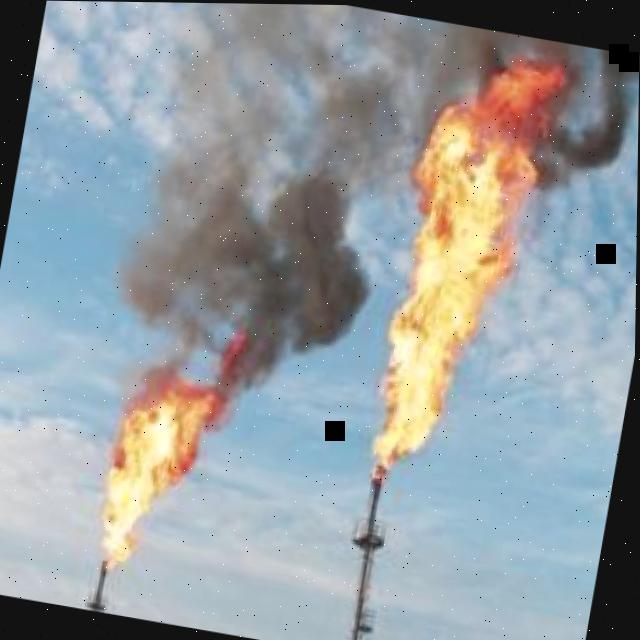fire: (371, 56, 574, 472), (102, 326, 253, 570)
smoke: (116, 19, 639, 391), (162, 3, 435, 205)
